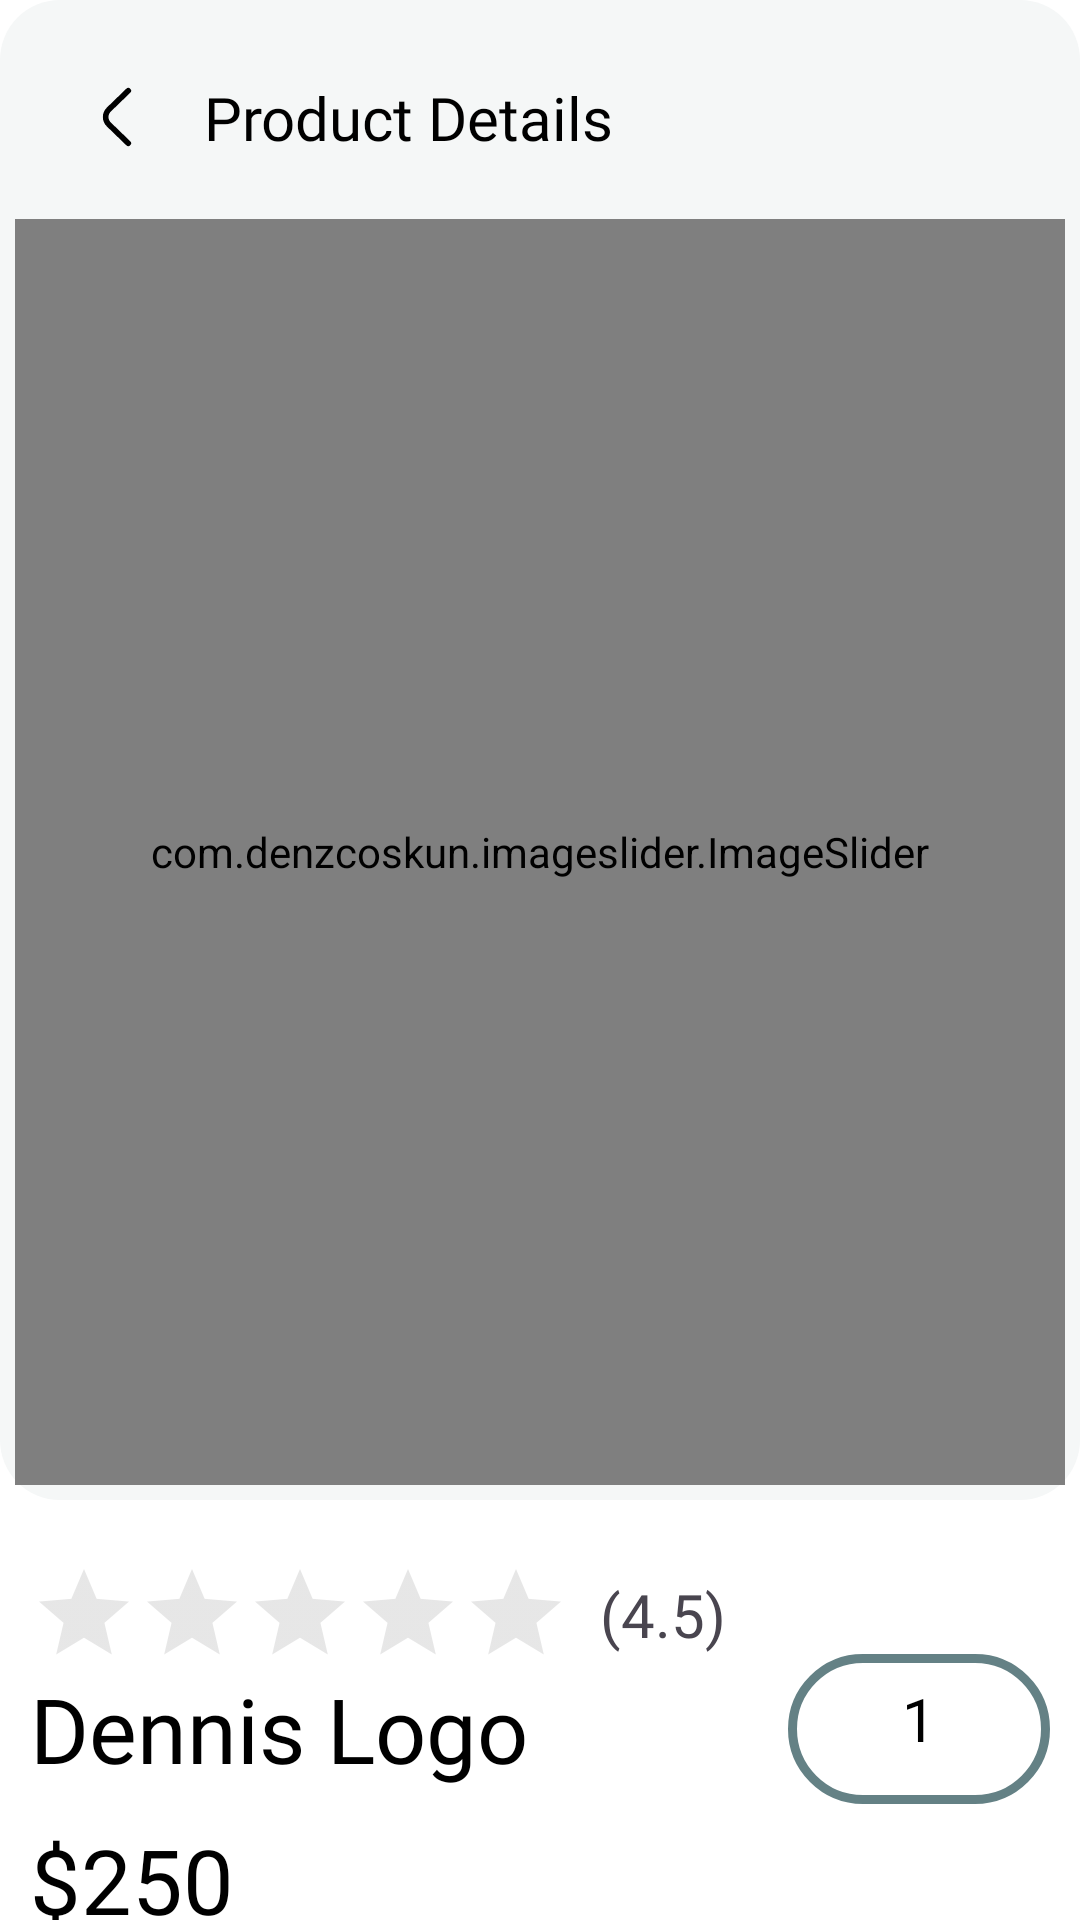

Where to tap for icons on this 1080*1920 app screen, as [x,y]:
left: [117,117]
